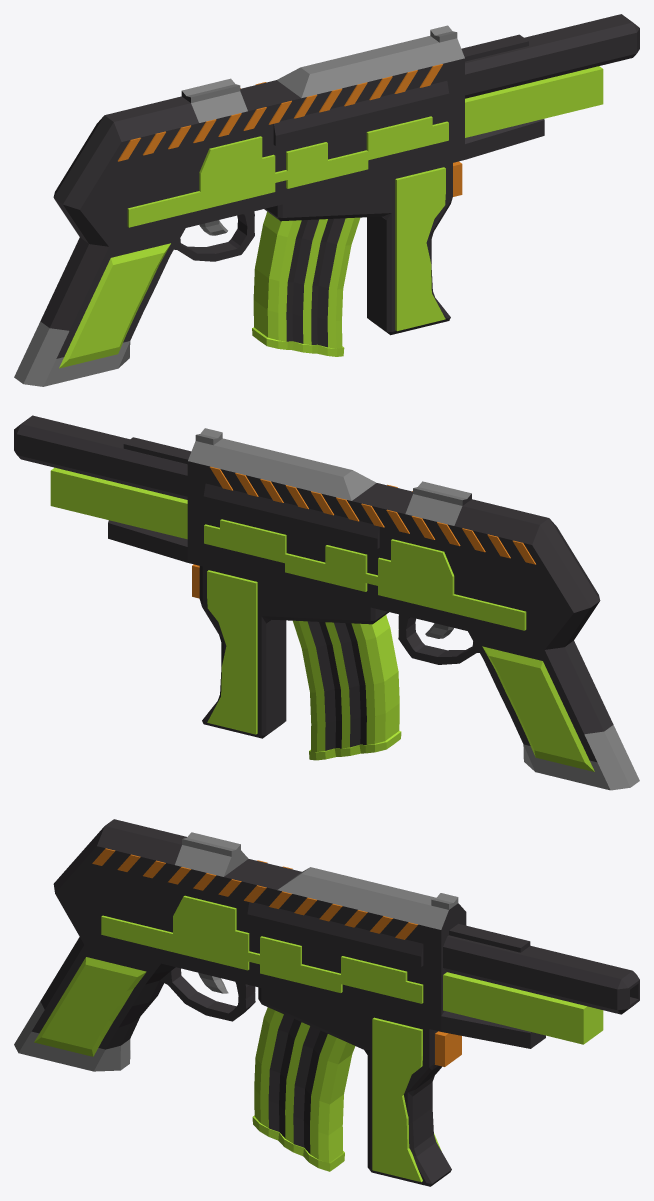
File: Subametralladora.fbx
3 renders of one model, top to bottom at view 1: azimuth 30°, elevation 25°; view 2: azimuth 150°, elevation 25°; view 3: azimuth 330°, elevation 25°, orthographic.
Parts seen in each view (by area): view 1: Cube.061; view 2: Cube.061; view 3: Cube.061.
Part boxes in pixels (left/top/right/bottom): Cube.061: left=14, top=14, right=639, bottom=386; Cube.061: left=14, top=415, right=639, bottom=790; Cube.061: left=14, top=819, right=639, bottom=1186.
Bounding box in the file's own units: 0.5701 × 0.2604 × 0.0462.
